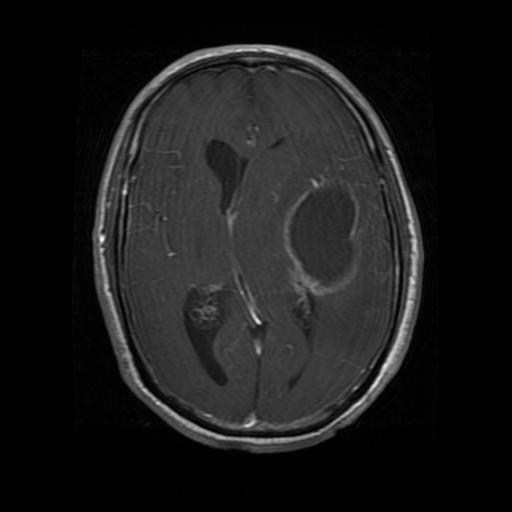Tumour-Glioma: (282, 179, 375, 297)
